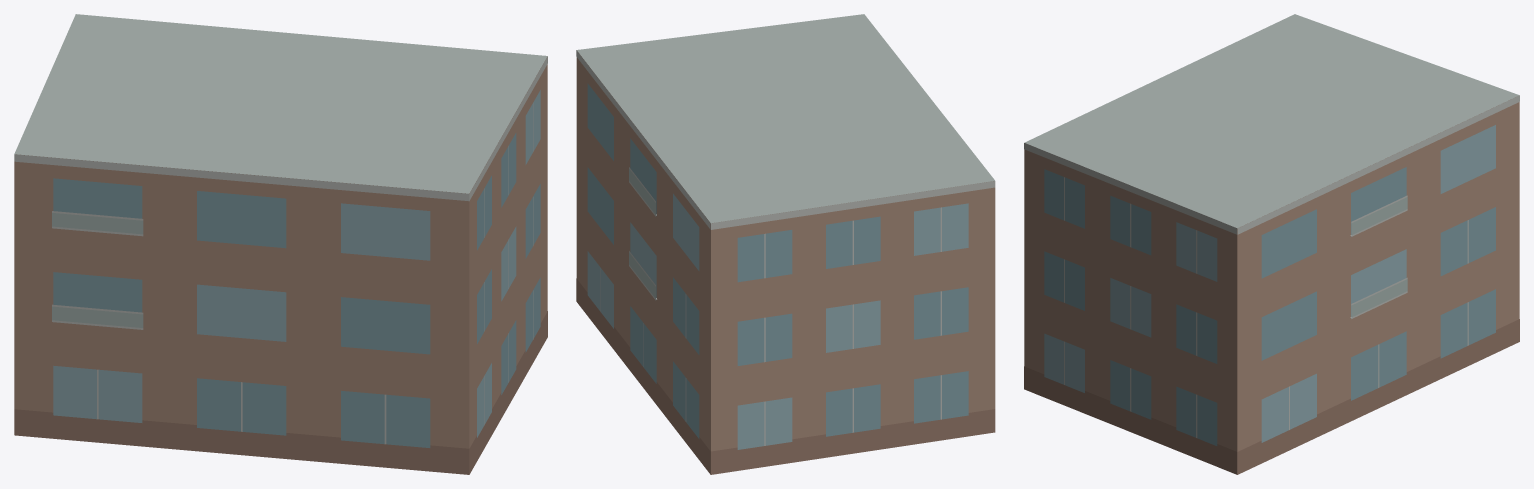
File: survey-upis-32893960.glb
3 renders of one model, left to right at view 1: azimuth 30°, elevation 25°; view 2: azimuth 150°, elevation 25°; view 3: azimuth 270°, elevation 25°, orthographic. The views are drawn at different scales.
Visible parts, largest first — view 1: survey-upis-32893960.tmp; view 2: survey-upis-32893960.tmp; view 3: survey-upis-32893960.tmp.
Boxes of the visible parts, box(x1,y1,x2,y2) form: survey-upis-32893960.tmp: box(14, 14, 547, 474); survey-upis-32893960.tmp: box(576, 14, 995, 474); survey-upis-32893960.tmp: box(1024, 14, 1519, 474).
Size of the model in its own units: 17.06 by 9.15 by 16.67.
